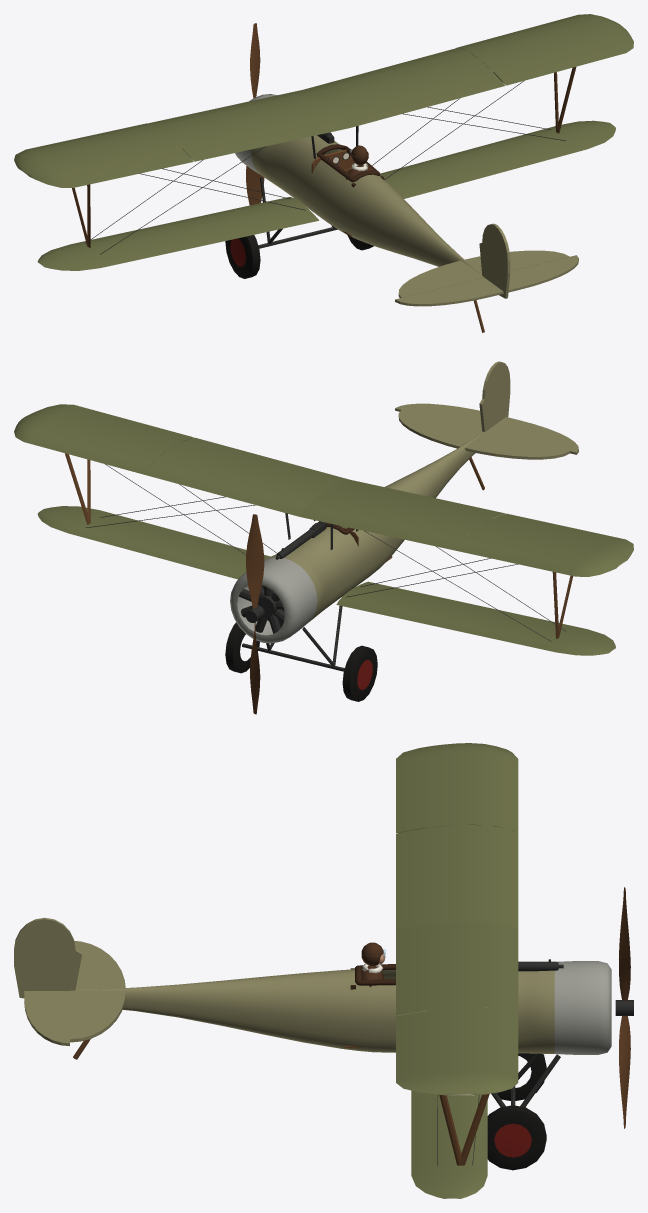
File: nieuport_17.glb
The picture shows the model from 3 angles, top to bottom: view 1: azimuth 30°, elevation 25°; view 2: azimuth 150°, elevation 25°; view 3: azimuth 270°, elevation 25°; orthographic projection. The views are drawn at different scales.
Visible parts, largest first — view 1: Wing_Upper_R, Wing_Upper_L, Fuselage, Wing_Lower_L, Wing_Lower_R, Elevator, Aileron_L, Aileron_R, Rudder, Stabilizer_L, Wheels, Wires (+6 smaller); view 2: Wing_Upper_R, Wing_Upper_L, Wing_Lower_L, Fuselage, Wing_Lower_R, Cowling, Elevator, Wheels, PropBlades, Stabilizer_L, Stabilizer_R, Rudder (+7 smaller); view 3: Wing_Upper_L, Wing_Upper_R, Fuselage, Wing_Lower_R, Cowling, Rudder, Wheels, Aileron_R, Aileron_L, Stabilizer_R, PropBlades, Elevator (+4 smaller).
Boxes of the visible parts, left/top/right/bottom form: Wing_Upper_R: left=303, top=14, right=625, bottom=127; Wing_Upper_L: left=14, top=90, right=349, bottom=175; Fuselage: left=251, top=135, right=481, bottom=274; Wing_Lower_L: left=37, top=197, right=318, bottom=270; Wing_Lower_R: left=380, top=120, right=615, bottom=198; Elevator: left=395, top=255, right=578, bottom=306; Aileron_L: left=26, top=147, right=193, bottom=187; Aileron_R: left=493, top=28, right=633, bottom=85; Rudder: left=479, top=223, right=510, bottom=298; Stabilizer_L: left=398, top=260, right=483, bottom=297; Wheels: left=225, top=235, right=373, bottom=278; Wires: left=85, top=81, right=566, bottom=254; Wing_Upper_R: left=14, top=409, right=349, bottom=516; Wing_Upper_L: left=299, top=479, right=625, bottom=576; Wing_Lower_L: left=336, top=581, right=615, bottom=655; Fuselage: left=268, top=431, right=483, bottom=621; Wing_Lower_R: left=37, top=506, right=270, bottom=579; Cowling: left=230, top=557, right=317, bottom=643; Elevator: left=395, top=403, right=578, bottom=454; Wheels: left=225, top=622, right=377, bottom=701; PropBlades: left=245, top=514, right=264, bottom=714; Stabilizer_L: left=465, top=430, right=569, bottom=459; Stabilizer_R: left=398, top=410, right=482, bottom=448; Rudder: left=479, top=361, right=510, bottom=432; Wing_Upper_L: left=396, top=743, right=518, bottom=929; Wing_Upper_R: left=396, top=921, right=518, bottom=1095; Fuselage: left=75, top=969, right=554, bottom=1053; Wing_Lower_R: left=411, top=1090, right=487, bottom=1198; Cowling: left=554, top=961, right=611, bottom=1054; Rudder: left=14, top=917, right=82, bottom=998; Wheels: left=487, top=1053, right=546, bottom=1170; Aileron_R: left=396, top=1011, right=454, bottom=1095; Aileron_L: left=396, top=745, right=438, bottom=832; Stabilizer_R: left=70, top=990, right=125, bottom=1042; PropBlades: left=615, top=887, right=633, bottom=1128; Elevator: left=24, top=991, right=69, bottom=1046.
Size of the model in its own units: 8.16 by 2.66 by 6.09.
